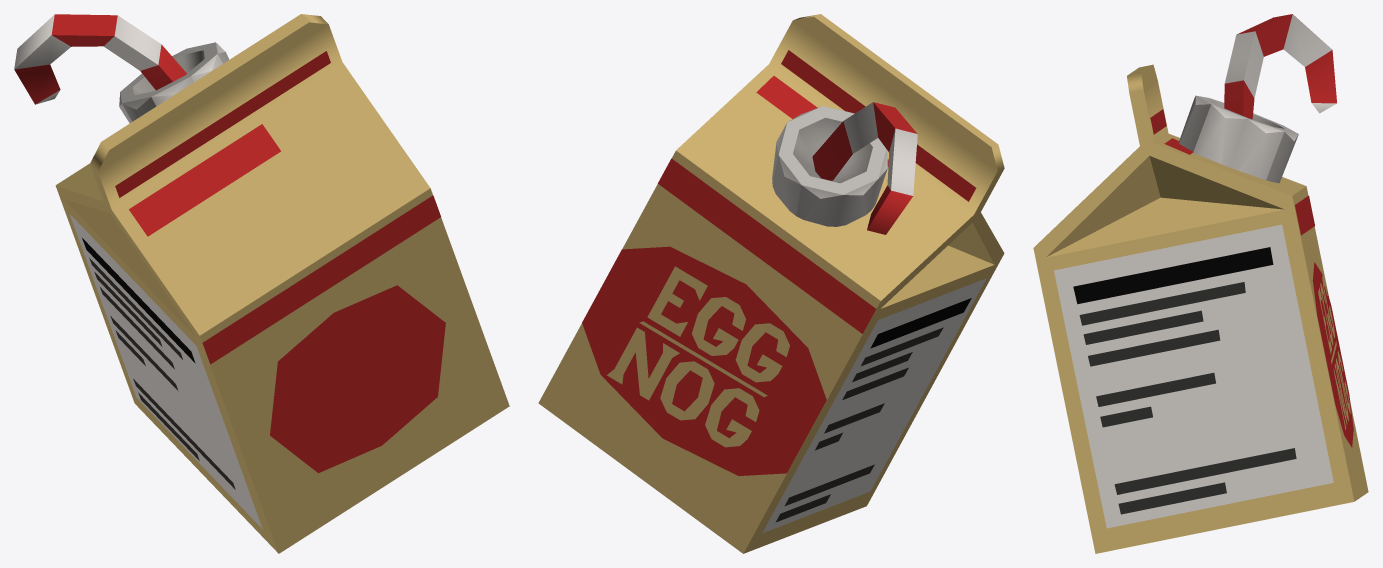
Rendered from hat_eggnog.glb.
The picture shows the model from 3 angles, left to right: view 1: azimuth 30°, elevation 25°; view 2: azimuth 150°, elevation 25°; view 3: azimuth 270°, elevation 25°; orthographic projection. The views are drawn at different scales.
Visible parts, largest first — view 1: hat_eggnog; view 2: hat_eggnog; view 3: hat_eggnog.
Boxes of the visible parts, x1=… form: hat_eggnog: x1=14, y1=14, x2=509, y2=553; hat_eggnog: x1=538, y1=14, x2=1004, y2=553; hat_eggnog: x1=1033, y1=14, x2=1368, y2=553.
Bounding box in the file's own units: 0.2907 × 0.3722 × 0.2312.
